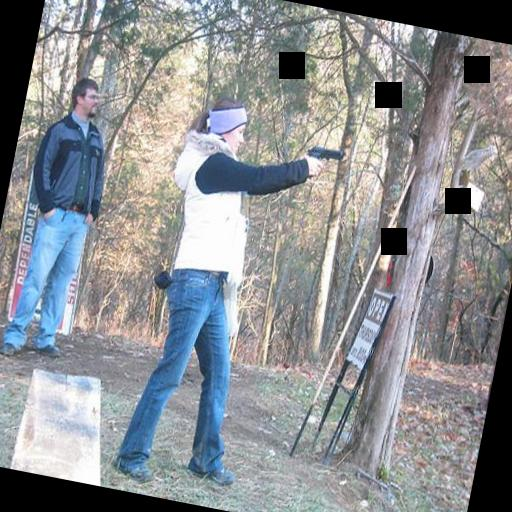Handgun: (302, 138, 346, 164)
